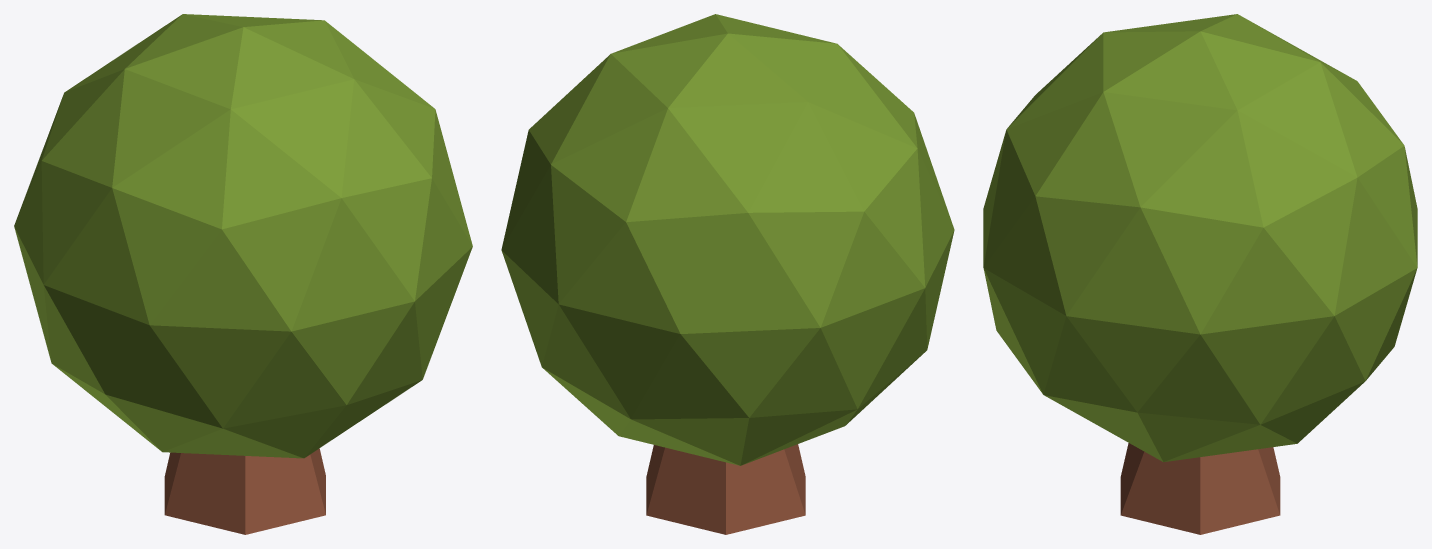
The model's file is Bush_2_autumn.fbx.
The picture shows the model from 3 angles, left to right: view 1: azimuth 30°, elevation 25°; view 2: azimuth 150°, elevation 25°; view 3: azimuth 270°, elevation 25°; orthographic projection.
Parts seen in each view (by area): view 1: Bush_2_autumn; view 2: Bush_2_autumn; view 3: Bush_2_autumn.
Boxes of the visible parts, <box> form: Bush_2_autumn: <box>14,14,472,534</box>; Bush_2_autumn: <box>501,14,954,534</box>; Bush_2_autumn: <box>983,14,1417,534</box>.
Bounding box in the file's own units: 35.19 × 39.46 × 33.47.
